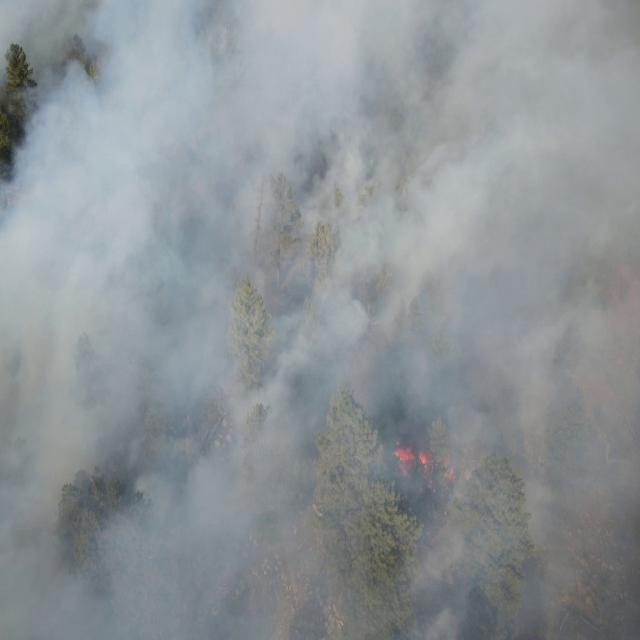fire: (393, 442, 435, 486), (441, 456, 458, 484)
smoke: (0, 0, 640, 640)
